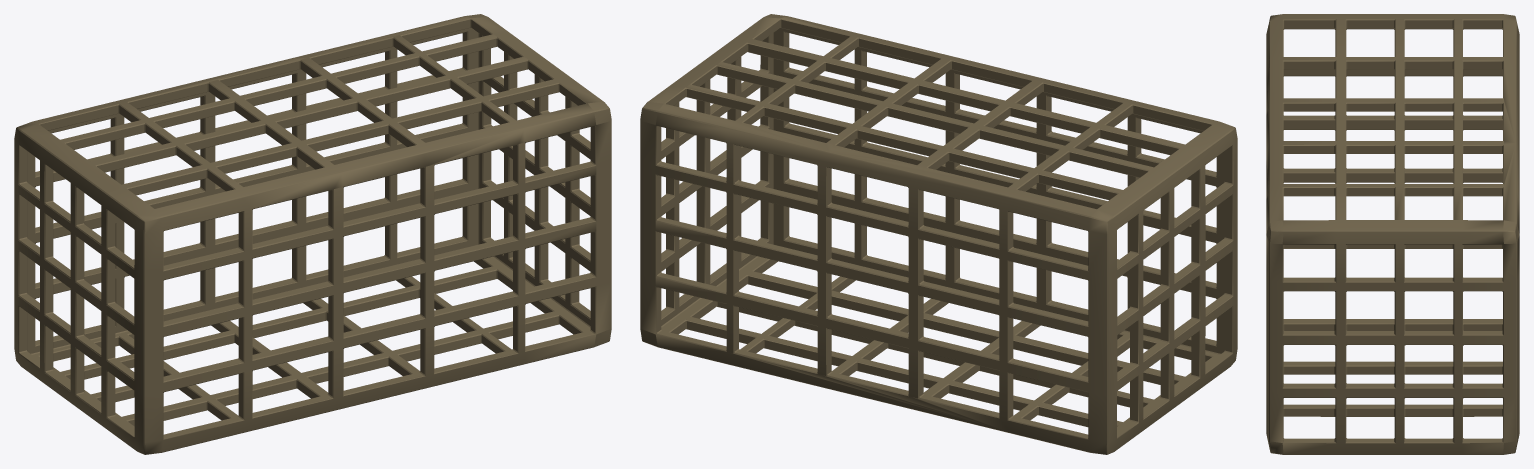
Rendered from nasse.gltf.
3 renders of one model, left to right at view 1: azimuth 30°, elevation 25°; view 2: azimuth 150°, elevation 25°; view 3: azimuth 270°, elevation 25°, orthographic. The views are drawn at different scales.
Visible parts, largest first — view 1: Cube; view 2: Cube; view 3: Cube.
Boxes of the visible parts, bbox=[...] form: Cube: bbox=[14, 14, 611, 454]; Cube: bbox=[640, 14, 1237, 454]; Cube: bbox=[1266, 14, 1519, 454].
Bounding box in the file's own units: 3.07 × 1.5 × 1.5.
